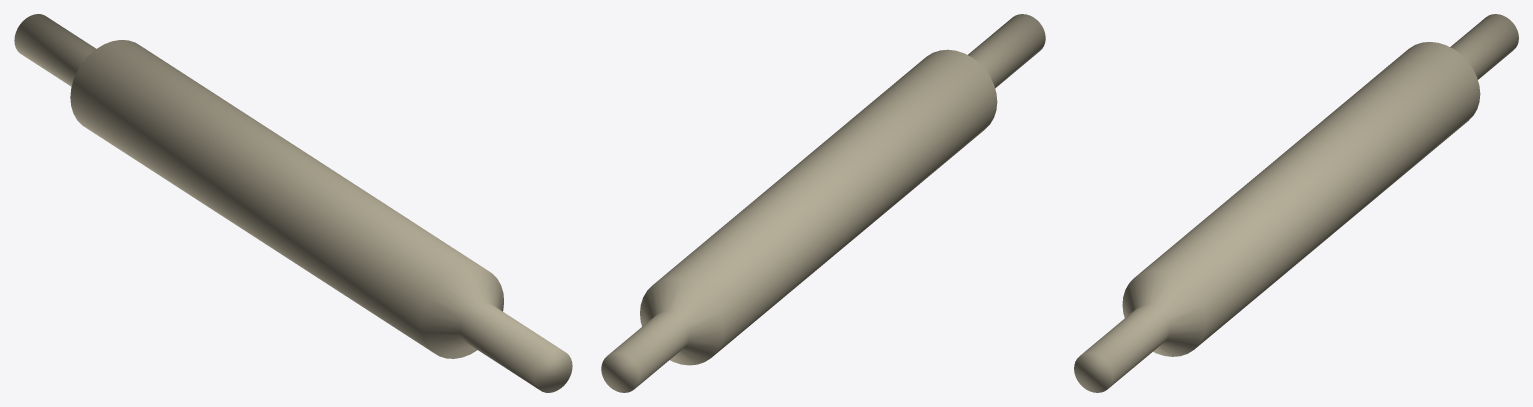
Rendered from Rolling Pin.fbx.
3 views of the same model, side by side, from view 1: azimuth 30°, elevation 25°; view 2: azimuth 150°, elevation 25°; view 3: azimuth 330°, elevation 25° (orthographic). The views are drawn at different scales.
Visible parts, largest first — view 1: Circle.002; view 2: Circle.002; view 3: Circle.002.
Part boxes in pixels (x1=…): Circle.002: x1=14, y1=14, x2=572, y2=392; Circle.002: x1=601, y1=14, x2=1045, y2=392; Circle.002: x1=1074, y1=14, x2=1518, y2=392.
Bounding box in the file's own units: 73.19 × 54.04 × 520.
